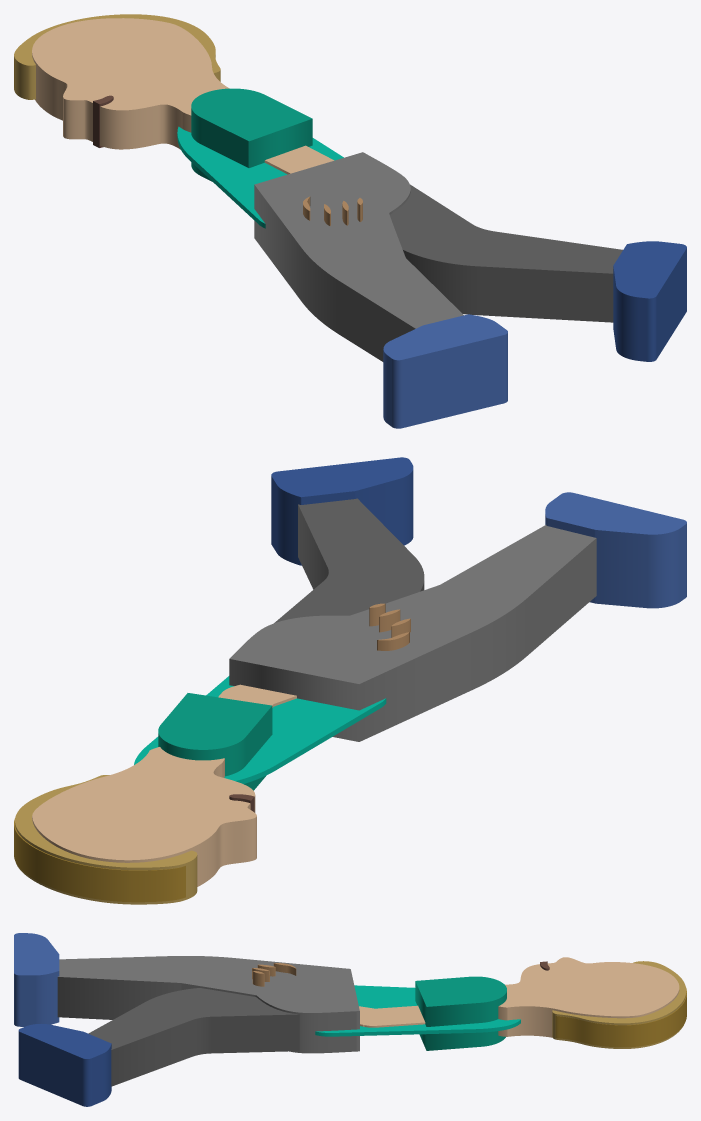
The model's file is emoji_u1f6b6_1f3fc_200d_2642.glb.
3 views of the same model, one above another, from view 1: azimuth 30°, elevation 25°; view 2: azimuth 150°, elevation 25°; view 3: azimuth 270°, elevation 25° (orthographic). The views are drawn at different scales.
Visible parts, largest first — view 1: emoji_u1f6b6_1f3fc_200d_2642; view 2: emoji_u1f6b6_1f3fc_200d_2642; view 3: emoji_u1f6b6_1f3fc_200d_2642.
Part boxes in pixels (x1,y1,x2,y2): emoji_u1f6b6_1f3fc_200d_2642: (14,14,686,428); emoji_u1f6b6_1f3fc_200d_2642: (14,457,686,904); emoji_u1f6b6_1f3fc_200d_2642: (14,933,686,1106).
Bounding box in the file's own units: 0.0145 × 0.0036 × 0.0332.
